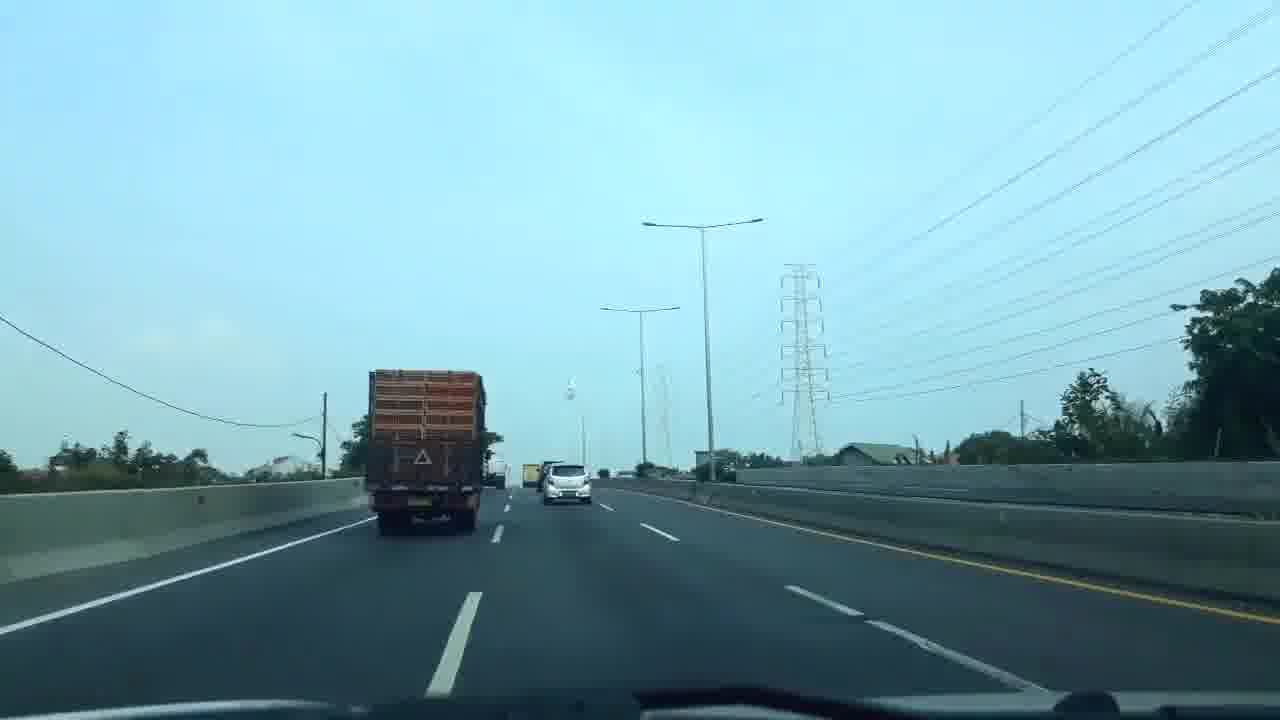plate_positive: (408, 497, 432, 508), (562, 491, 576, 496)
